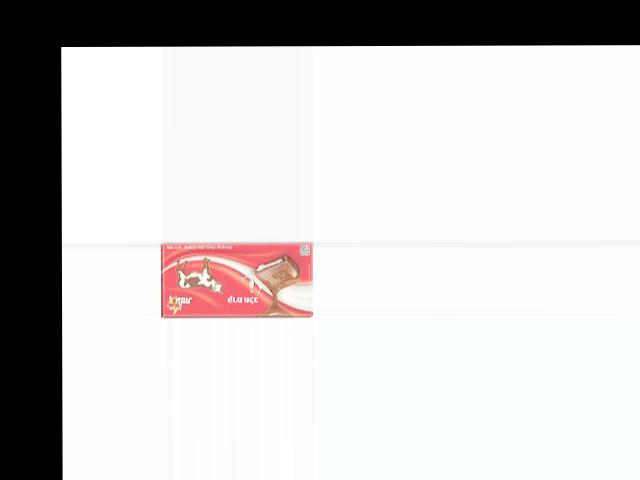chocolate: (157, 241, 312, 318)
